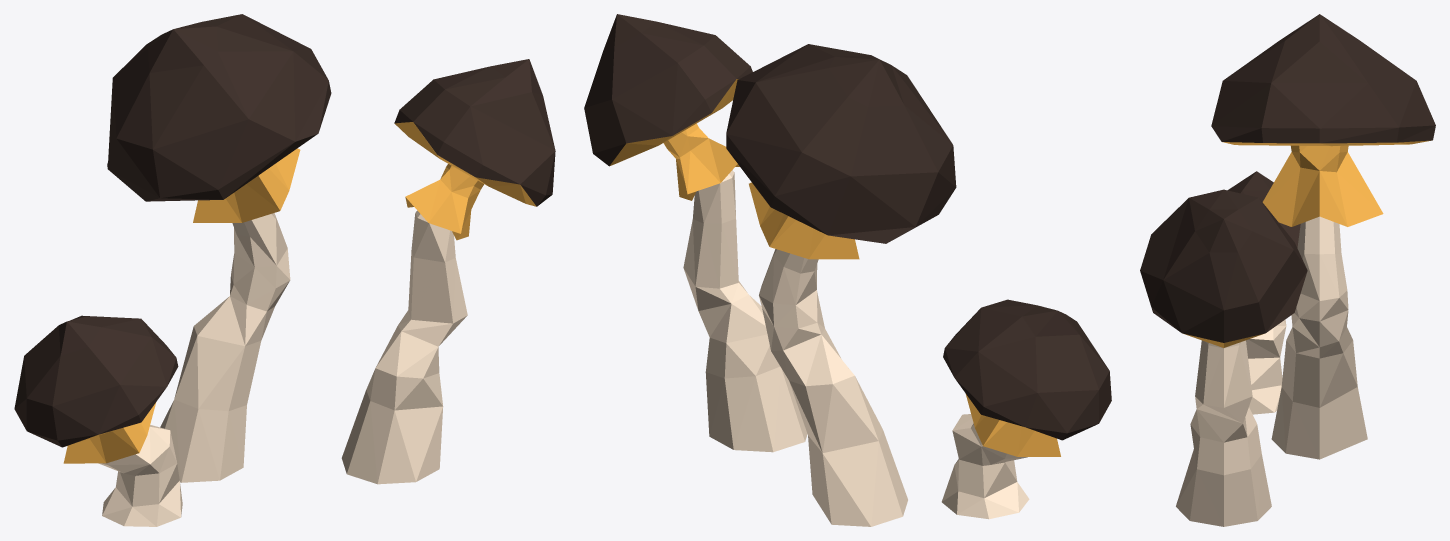
Rendered from mushroom_4.obj.
The picture shows the model from 3 angles, left to right: view 1: azimuth 30°, elevation 25°; view 2: azimuth 150°, elevation 25°; view 3: azimuth 270°, elevation 25°; orthographic projection. The views are drawn at different scales.
Visible parts, largest first — view 1: mashroom_4; view 2: mashroom_4; view 3: mashroom_4.
Part boxes in pixels (x1,y1,x2,y2): mashroom_4: (14, 14, 555, 526); mashroom_4: (584, 14, 1111, 526); mashroom_4: (1140, 14, 1435, 526).
Size of the model in its own units: 0.9086 by 0.7521 by 0.4856.
